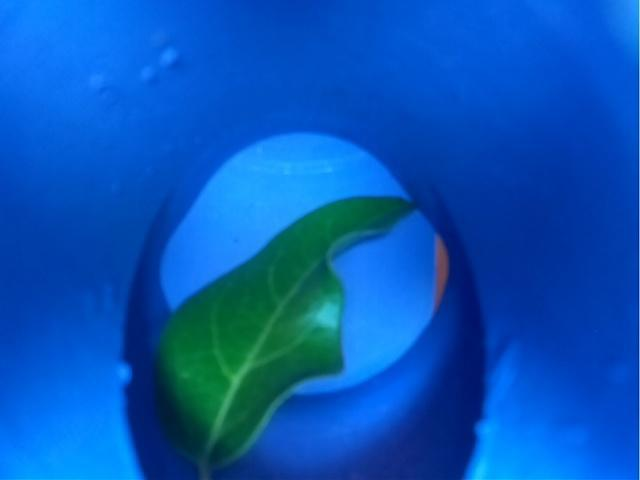feuille: (145, 181, 421, 479)
